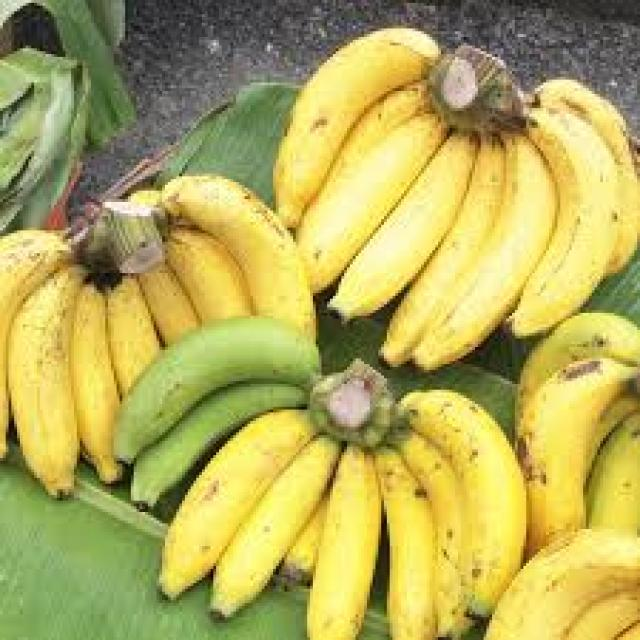Banana: (140, 343, 296, 441), (220, 210, 323, 328), (314, 467, 381, 629), (280, 66, 362, 193), (492, 162, 549, 339), (154, 391, 252, 488), (19, 302, 70, 488), (458, 421, 507, 596), (449, 146, 500, 309), (324, 133, 384, 270), (245, 477, 307, 608), (168, 460, 301, 520), (390, 490, 440, 637), (520, 563, 617, 637), (572, 143, 613, 312), (534, 389, 582, 521), (169, 247, 247, 312), (434, 482, 467, 630), (77, 309, 116, 431), (405, 181, 437, 297), (106, 288, 158, 358), (145, 281, 195, 325)
